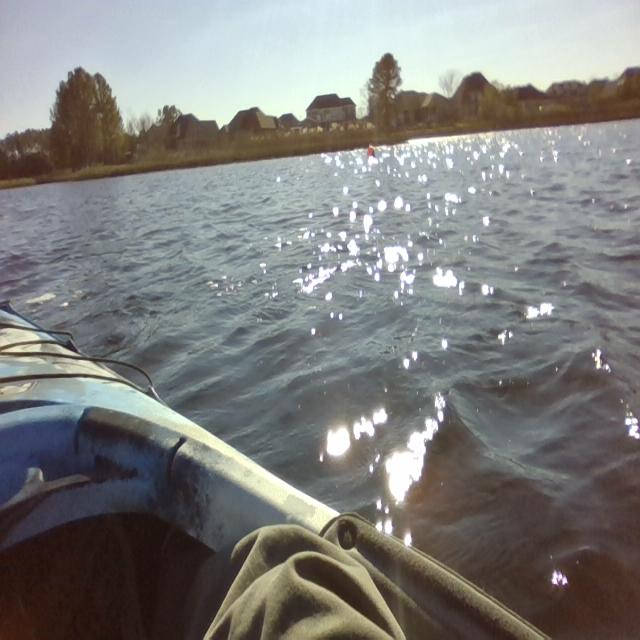Buoy: (363, 140, 379, 162)
